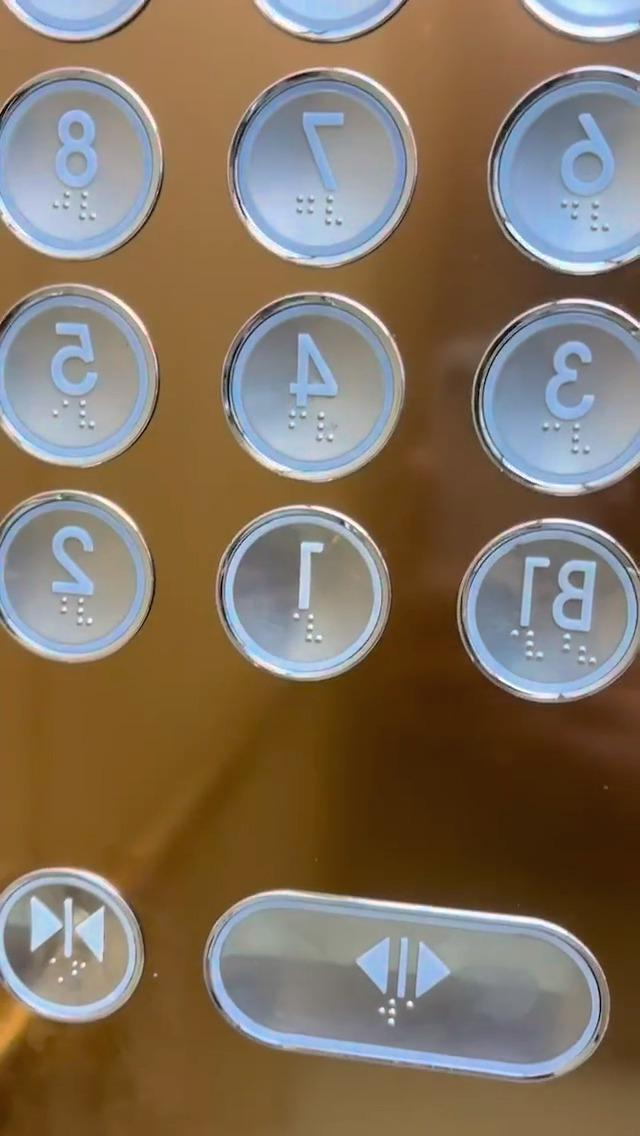button: (233, 889, 567, 1089), (227, 66, 436, 266), (217, 300, 403, 477), (463, 521, 640, 703), (487, 300, 637, 501), (496, 70, 640, 276), (213, 506, 377, 683), (0, 59, 146, 256), (0, 484, 159, 664), (3, 297, 147, 456), (0, 886, 129, 1020)
